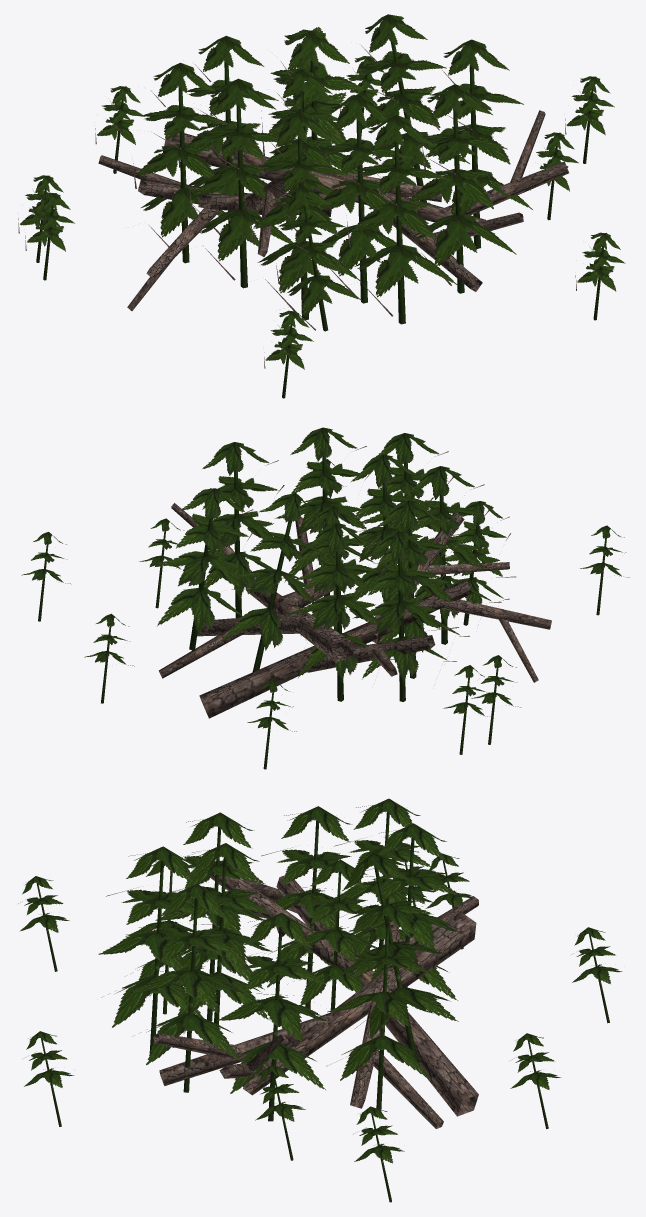
File: nettles2.dae
3 views of the same model, one above another, from view 1: azimuth 30°, elevation 25°; view 2: azimuth 150°, elevation 25°; view 3: azimuth 270°, elevation 25° (orthographic). The views are drawn at different scales.
Parts seen in each view (by area): view 1: Plane; view 2: Plane; view 3: Plane.
Boxes of the visible parts, box(x1,y1,x2,y2) form: Plane: box(18, 14, 625, 398); Plane: box(21, 427, 629, 769); Plane: box(18, 798, 622, 1202).
Bounding box in the file's own units: 4.54 × 4.13 × 1.73.
1 material, 1 textured.
